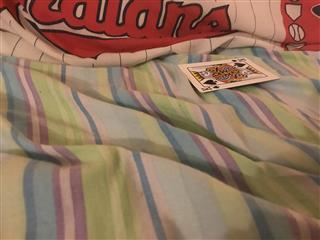KingOfSpades: (176, 56, 280, 93)
